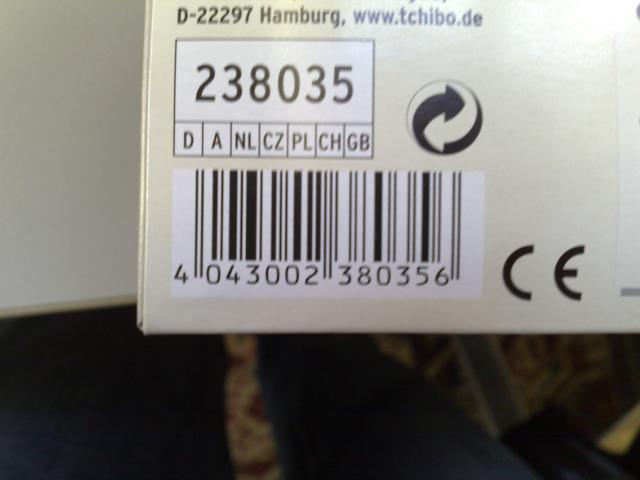Barcode: (168, 161, 470, 294)
